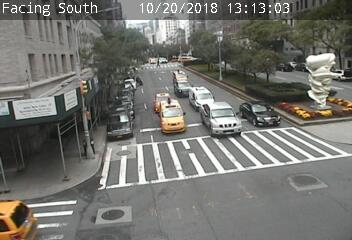car: (201, 102, 241, 136), (240, 101, 281, 126), (160, 100, 185, 134), (189, 86, 214, 111), (154, 93, 173, 113), (174, 80, 192, 97), (173, 71, 188, 85)
